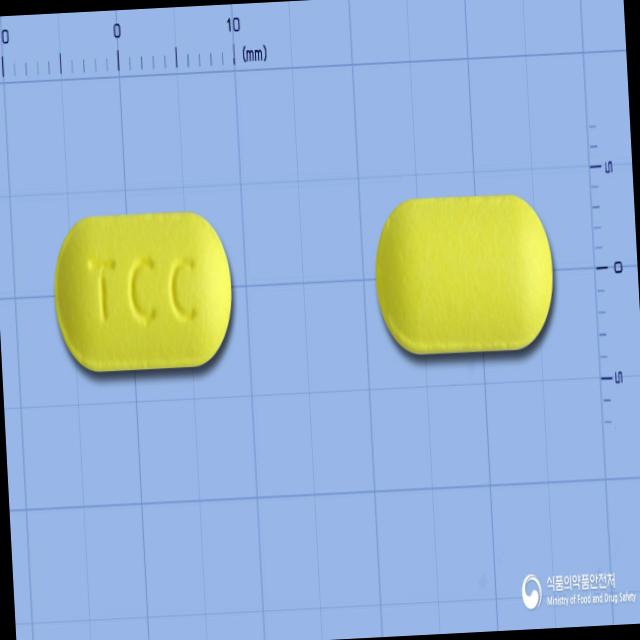Clycin Tab-500mg: (52, 208, 235, 374)
